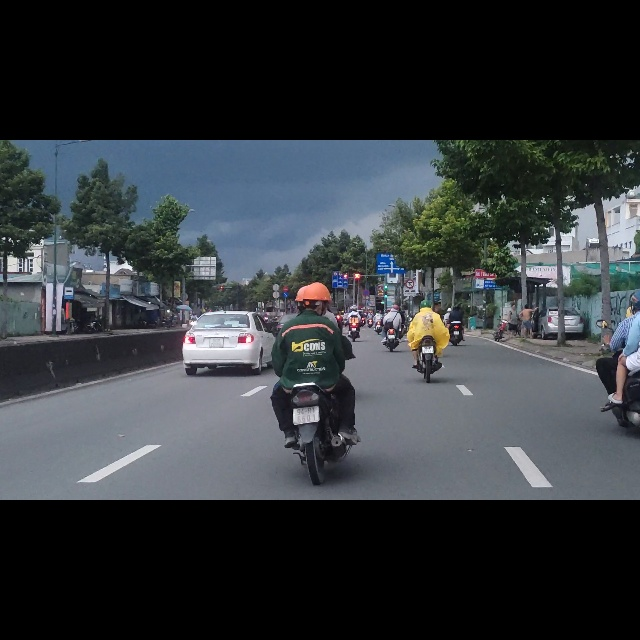bien_cam: (332, 241, 348, 263), (406, 248, 414, 264), (282, 260, 288, 270), (283, 271, 288, 280)
